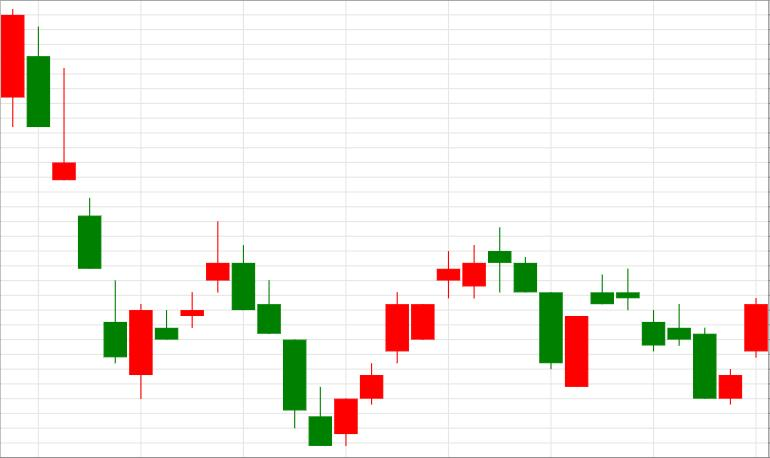evening_star_fall: (334, 228, 538, 446)
inverse_hammer_rise: (27, 26, 127, 364)
